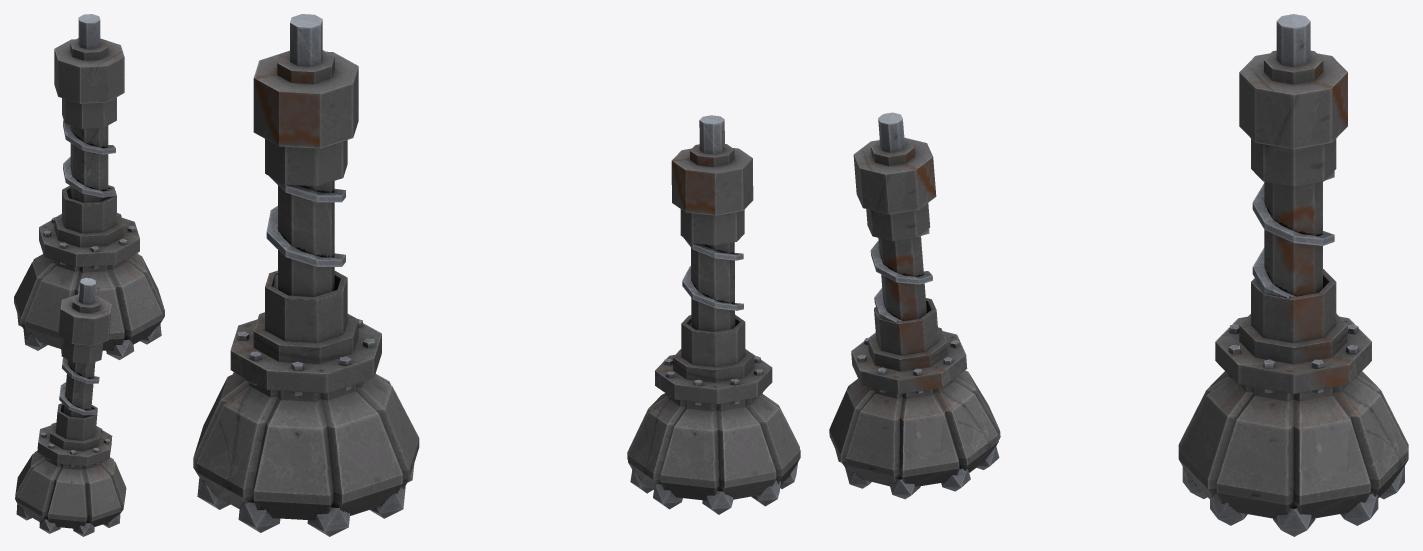
Rendered from HardenedDrillBit.glb.
The picture shows the model from 3 angles, left to right: view 1: azimuth 30°, elevation 25°; view 2: azimuth 150°, elevation 25°; view 3: azimuth 270°, elevation 25°; orthographic projection. The views are drawn at different scales.
Visible parts, largest first — view 1: WorldModel, drillbit; view 2: WorldModel, drillbit; view 3: WorldModel, drillbit.
Part boxes in pixels (bbox=[...]): WorldModel: bbox=[14, 14, 164, 359]; drillbit: bbox=[15, 278, 126, 536]; WorldModel: bbox=[193, 14, 419, 536]; drillbit: bbox=[627, 115, 800, 514]; WorldModel: bbox=[1178, 14, 1408, 536]; drillbit: bbox=[829, 112, 1000, 499].
Size of the model in its own units: 0.8147 by 1.11 by 1.04.
1 material, 1 textured.
